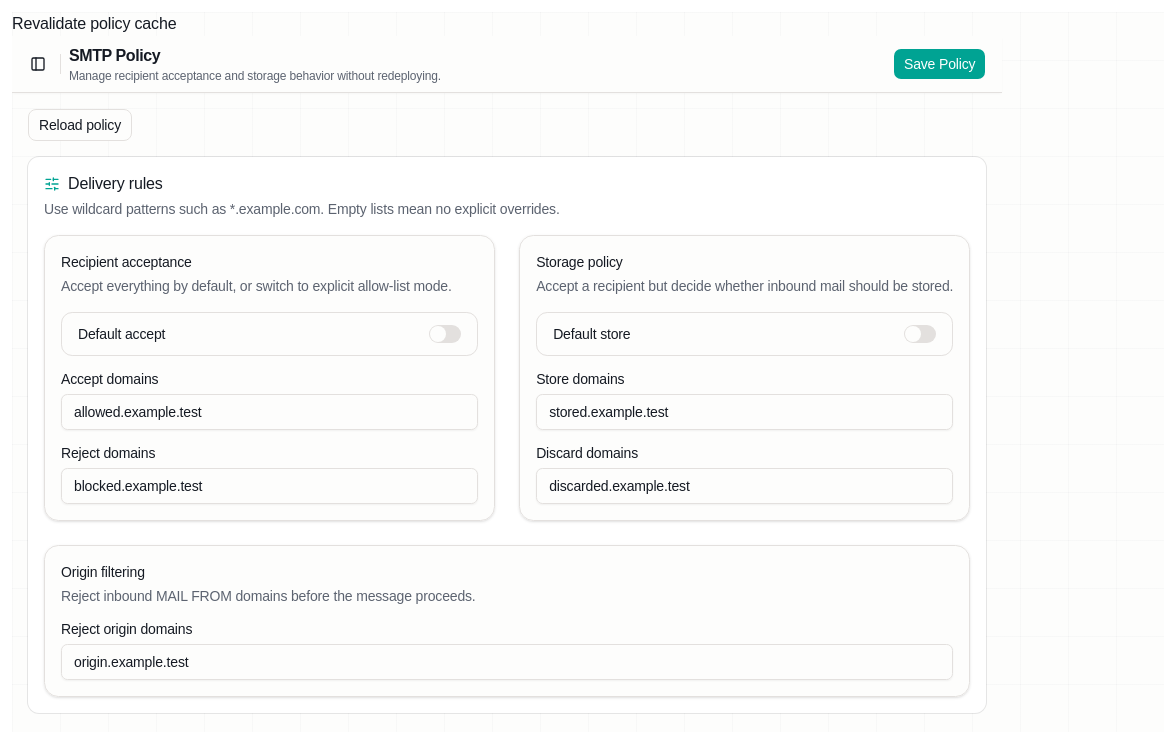
Test: revalidates after an acknowledged save and blocks on a failed follow-up GET
Expected: the button "Save Policy" is enabled, [893,48,986,80]
Step 1. Replace the text in the field below "Accept domains" with "typed.example.test" → {"x": 270, "y": 412}, box [61,394,478,430]
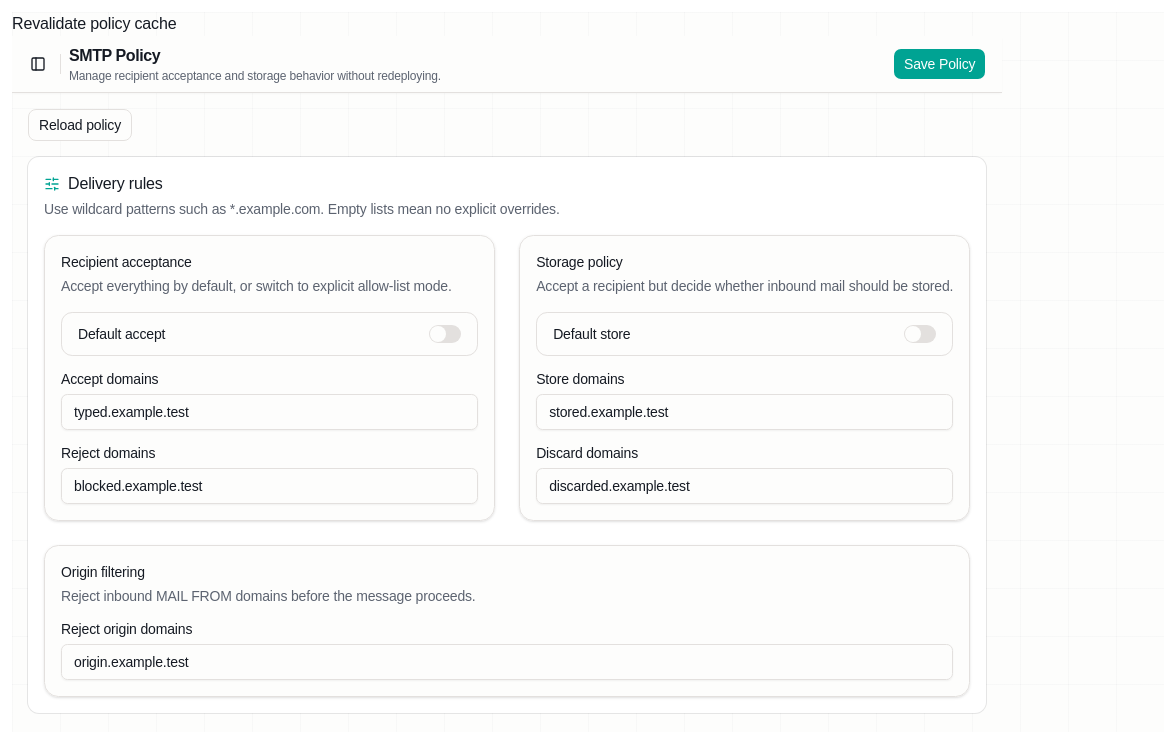
Step 2. Click the button "Save Policy" → {"x": 940, "y": 64}, box [893,48,986,80]
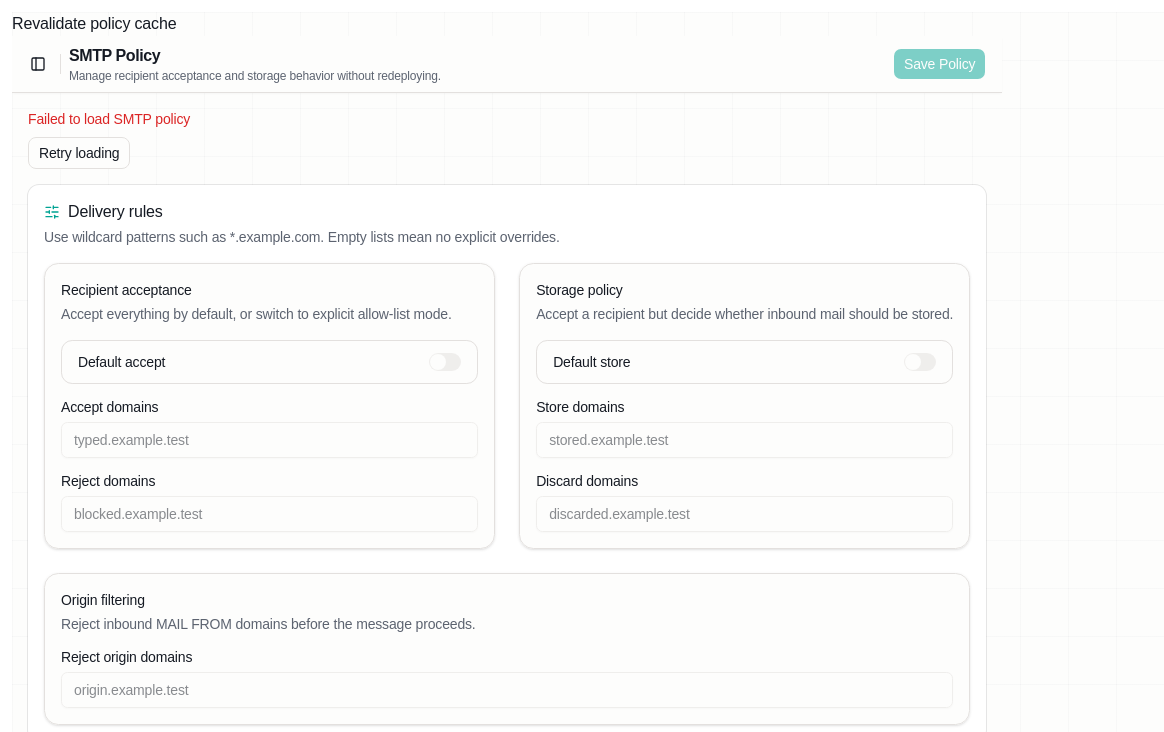
Now the button "Save Policy" is disabled, box [893,48,986,80]
Now the message "Failed to load SMTP policy" is shown, box [28,111,190,127]
